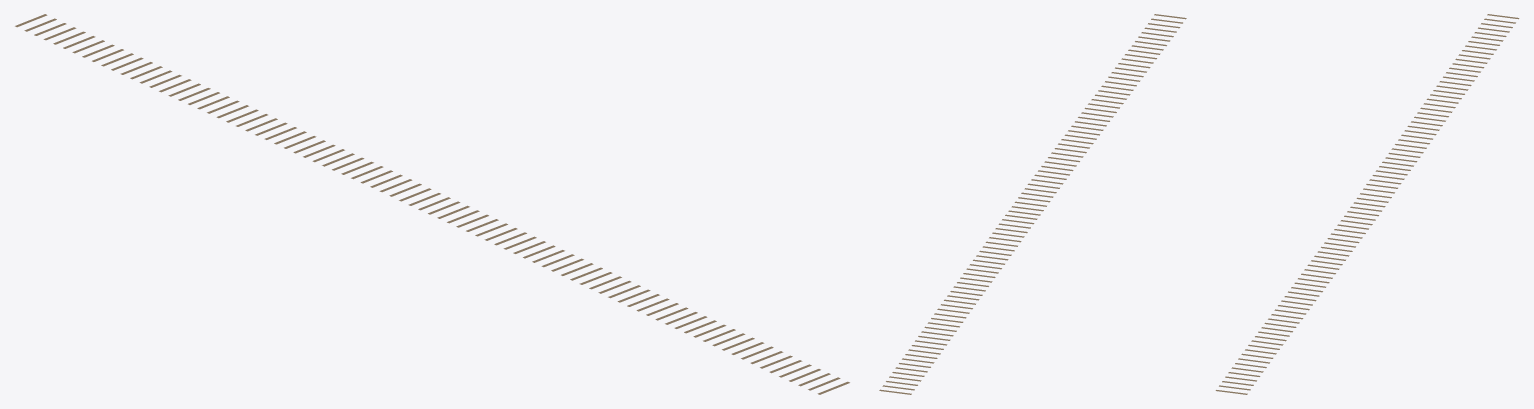
The model's file is c_1630_17817_rail_sleeper.glb.
3 renders of one model, left to right at view 1: azimuth 30°, elevation 25°; view 2: azimuth 150°, elevation 25°; view 3: azimuth 330°, elevation 25°, orthographic. The views are drawn at different scales.
Visible parts, largest first — view 1: geometry_0; view 2: geometry_0; view 3: geometry_0.
Boxes of the visible parts, x1,y1,x2,y2 form: geometry_0: [15, 14, 849, 394]; geometry_0: [879, 14, 1186, 394]; geometry_0: [1215, 14, 1519, 394].
Bounding box in the file's own units: 17.4 × 0.1783 × 66.24.
